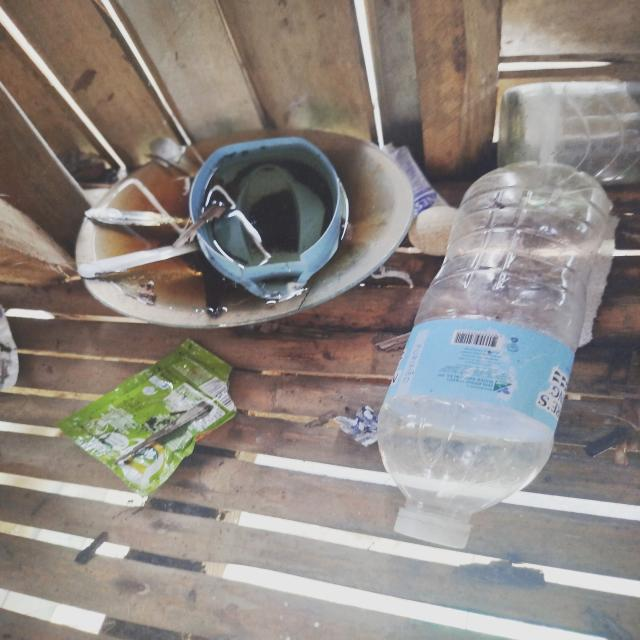plastic: (362, 148, 630, 558)
residual: (54, 328, 258, 518)
